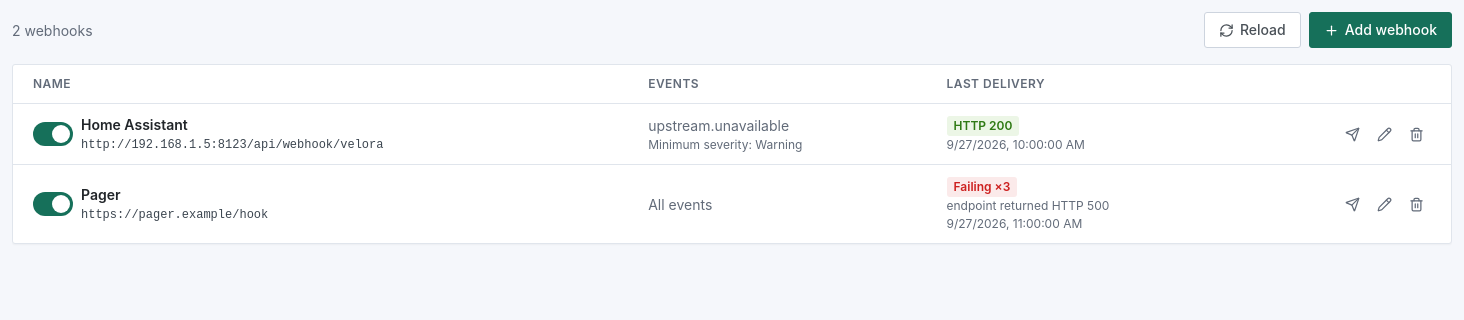
Scenario: reports test results
Click the button named "Send test Pager".
click(1352, 204)  # box 1337,189 -> 1367,219
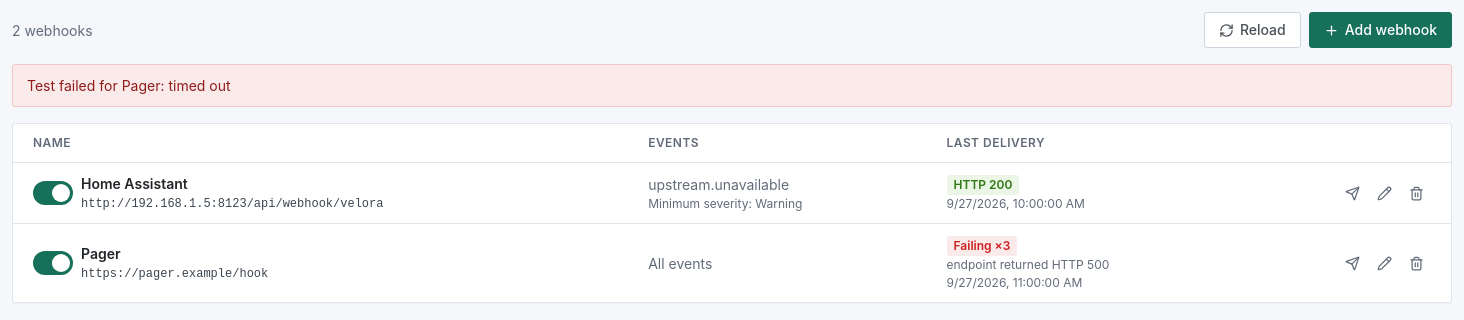
Check: the message reads "Test failed for Pager: timed out", box 27,77 -> 231,94
